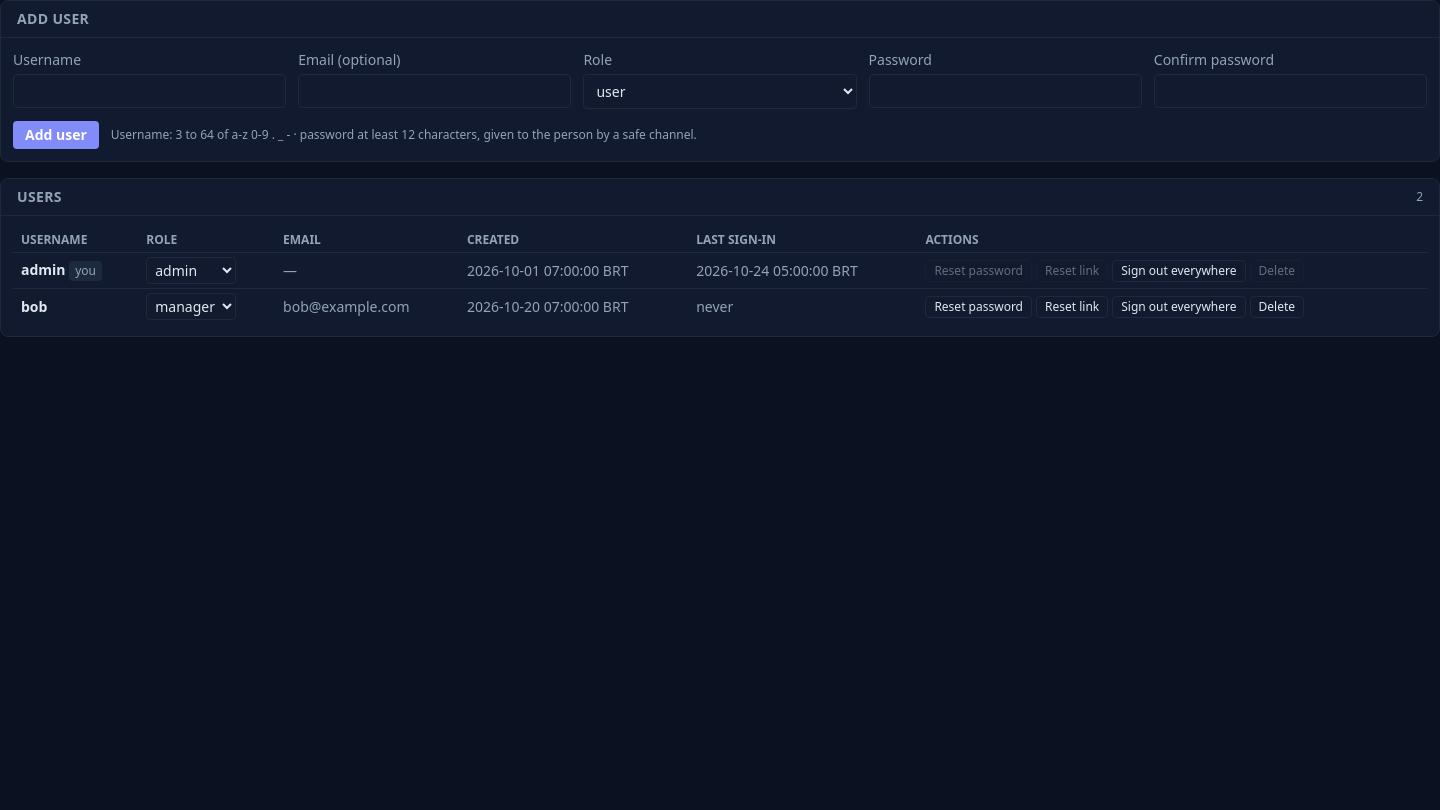
Test: Users page › a deletion whose survey answers could not be removed says so (#363)
Click the button "Delete" in the row of "bob@example.com".
click(1277, 306)  # box [1250,296,1304,318]
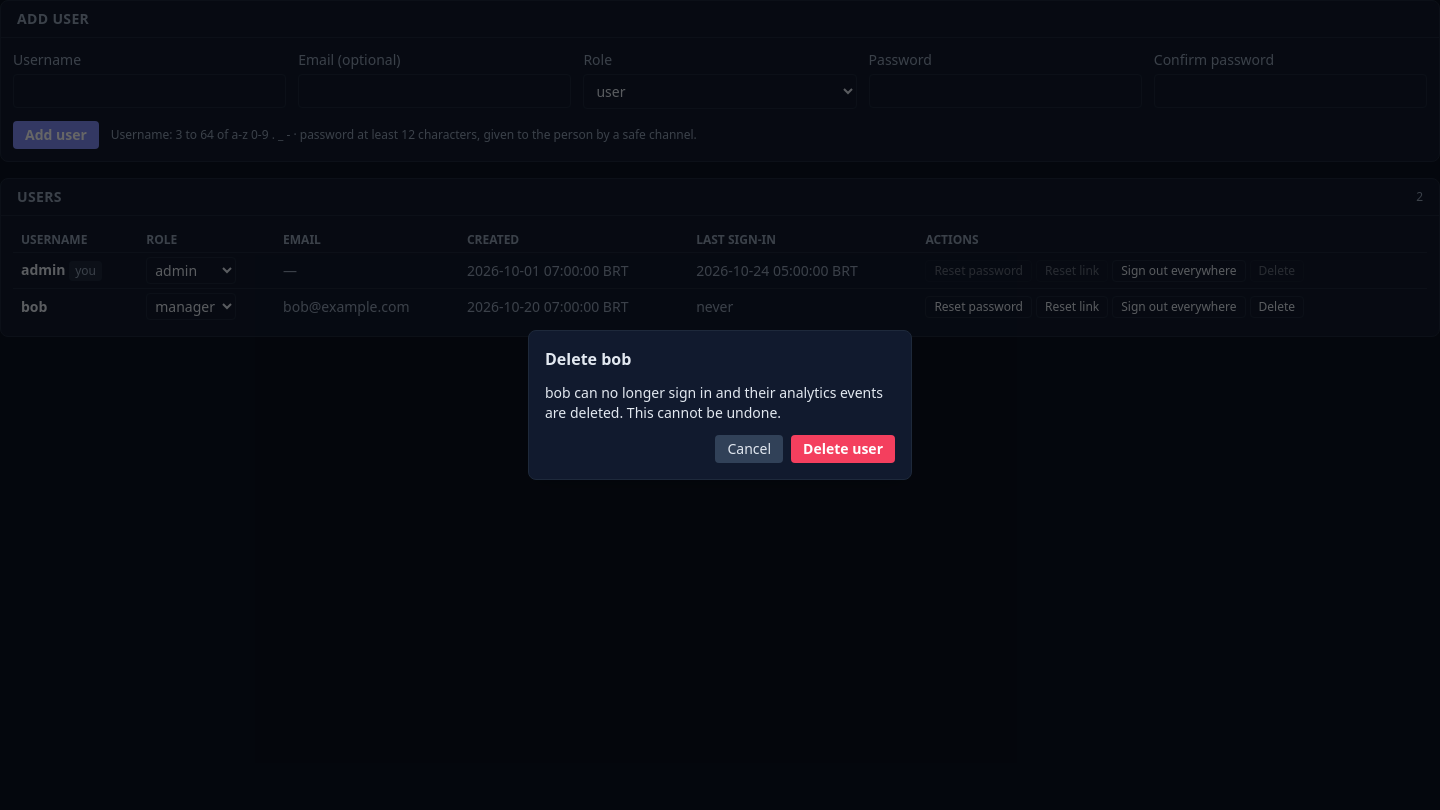
Click the button "Delete user".
click(843, 449)  # box [791,435,895,463]
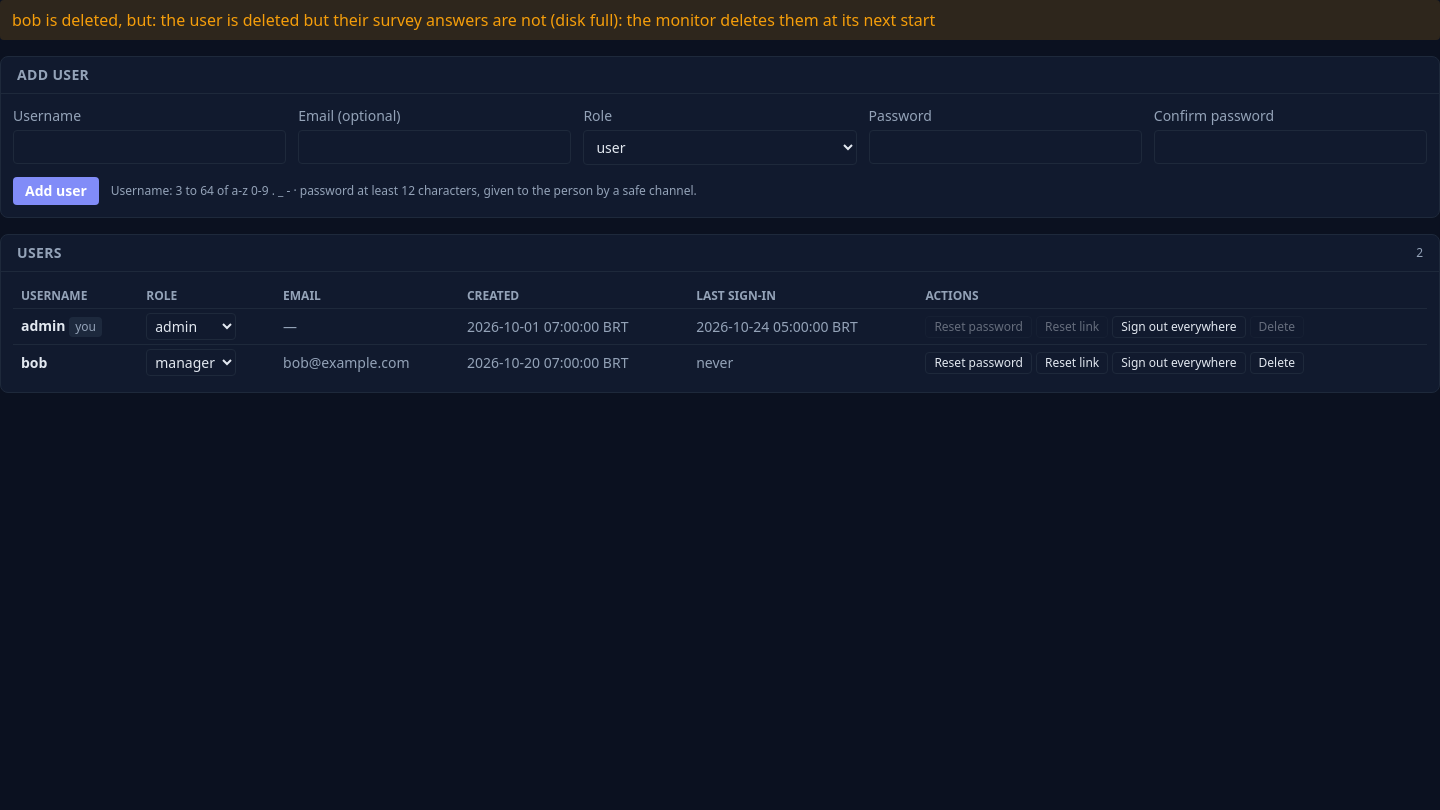
Expected: the message shows "bob is deleted, but: the user is deleted but their survey answers are not (disk full)", [12,9,935,31]
